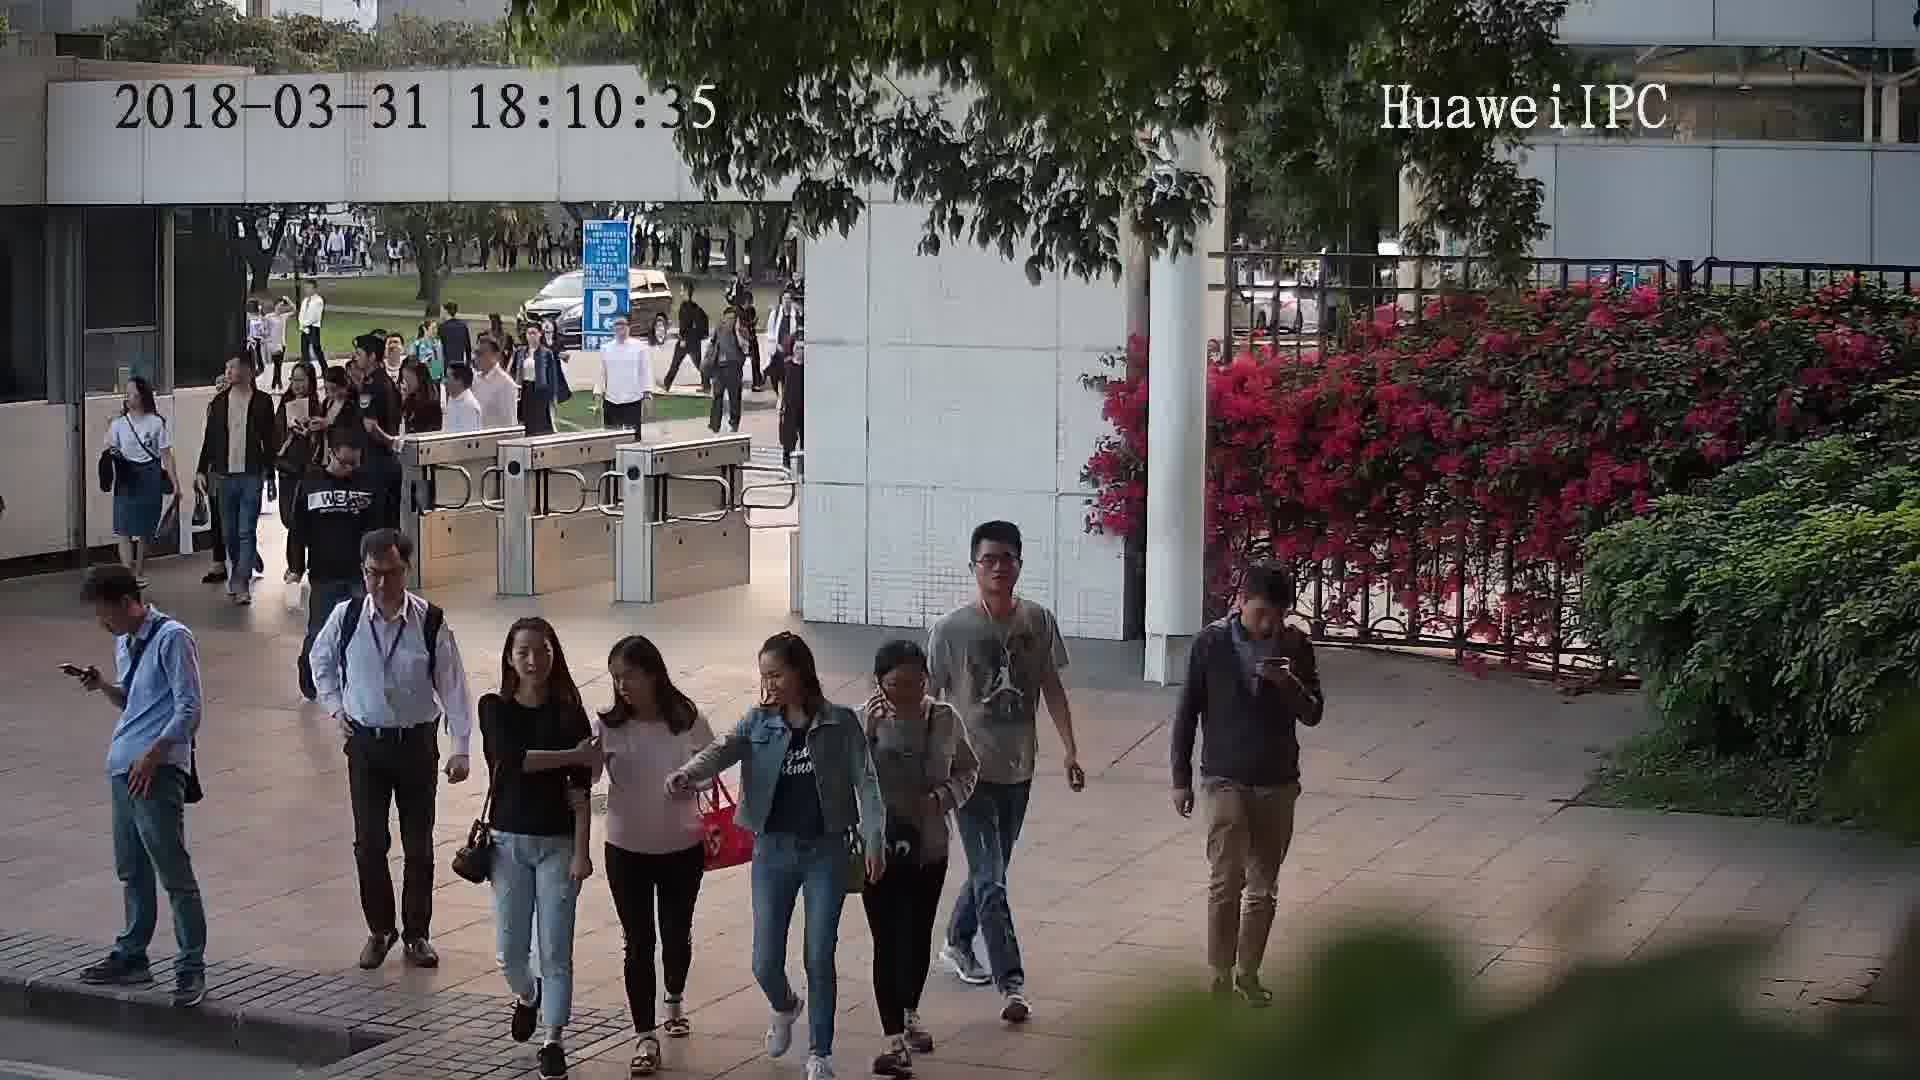face: (967, 536, 1024, 594), (753, 649, 808, 704), (360, 552, 414, 606), (604, 655, 658, 709), (879, 663, 929, 713), (508, 634, 557, 683)
person: (933, 519, 1055, 657), (741, 629, 863, 744), (479, 611, 592, 732), (81, 560, 196, 673), (326, 524, 446, 632), (1187, 563, 1310, 668), (600, 632, 702, 733), (864, 639, 959, 742), (304, 423, 379, 499), (214, 348, 272, 413), (113, 374, 169, 434), (348, 333, 392, 397), (472, 335, 518, 389), (320, 361, 362, 417), (281, 359, 325, 411), (400, 359, 442, 410), (514, 317, 558, 365), (442, 360, 483, 410), (600, 312, 644, 359), (713, 310, 752, 346), (380, 332, 406, 378), (438, 297, 470, 333), (676, 275, 706, 312), (301, 272, 329, 304)
